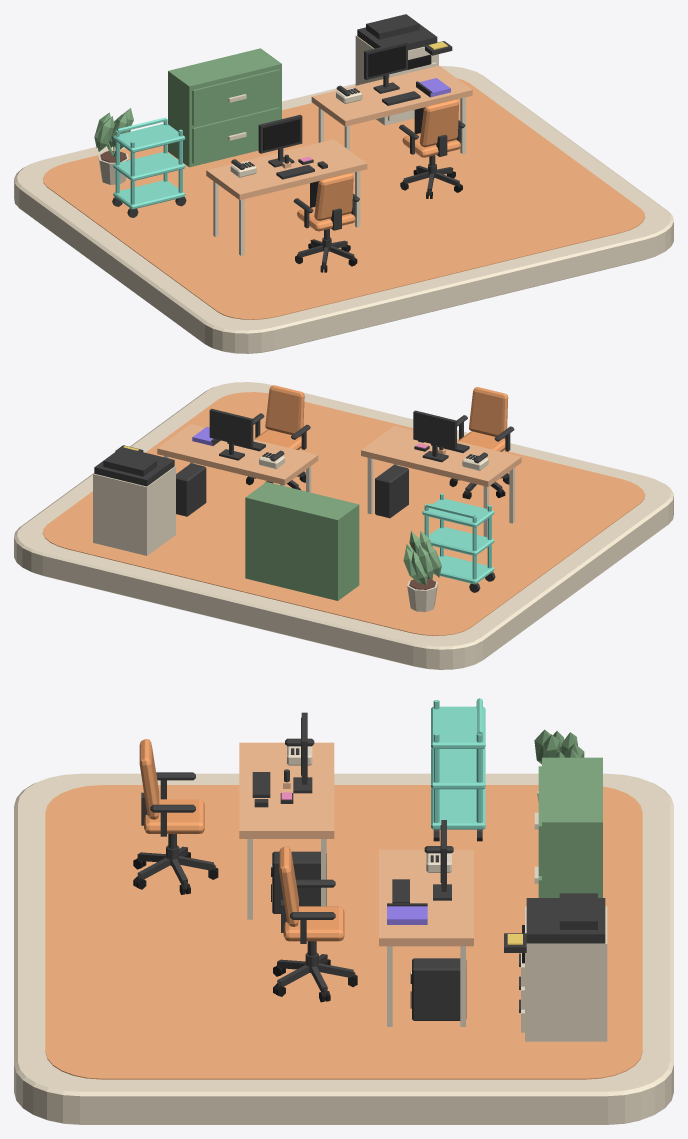
3 views of the same model, one above another, from view 1: azimuth 30°, elevation 25°; view 2: azimuth 150°, elevation 25°; view 3: azimuth 270°, elevation 25° (orthographic). The views are drawn at different scales.
Visible parts, largest first — view 1: COM-02 Floor Surface, COM-01 Rounded Base Direct, Cabinet, Top, Top.001, Body, COM-04_Chair_blender_direct, COM-04_Chair_blender_direct.001, Pot, Frame.001, Frame, Tray.002 (+2 smaller); view 2: COM-02 Floor Surface, COM-01 Rounded Base Direct, Cabinet, Body, Top, Top.001, COM-04_Chair_blender_direct, COM-04_Chair_blender_direct.001, Pot, Frame.001, Frame, Tower (+4 smaller); view 3: COM-02 Floor Surface, COM-01 Rounded Base Direct, Body, Cabinet, Top, Top.001, COM-04_Chair_blender_direct.001, COM-04_Chair_blender_direct, Tower.001, Tray.002, Tray.001, Tray (+5 smaller).
Part boxes in pixels (x1,y1,x2,y2): COM-02 Floor Surface: (42,78,645,319); COM-01 Rounded Base Direct: (14,66,673,353); Cabinet: (168,48,281,167); Top: (206,139,367,255); Top.001: (311,65,472,153); Body: (355,14,452,125); COM-04_Chair_blender_direct: (293,173,359,272); COM-04_Chair_blender_direct.001: (399,99,465,198); Pot: (94,108,133,184); Frame.001: (364,41,407,93); Frame: (258,114,302,167); Tray.002: (113,123,185,152); COM-02 Floor Surface: (42,392,645,635); COM-01 Rounded Base Direct: (14,382,673,669); Cabinet: (245,482,359,600); Body: (93,445,175,555); Top: (361,426,521,537); Top.001: (157,424,318,492); COM-04_Chair_blender_direct: (449,387,514,499); COM-04_Chair_blender_direct.001: (246,385,310,489); Pot: (403,531,441,611); Frame.001: (209,408,253,460); Frame: (413,410,456,462); Tower: (375,465,408,518); COM-02 Floor Surface: (45,785,642,1079); COM-01 Rounded Base Direct: (14,773,673,1124); Body: (504,893,607,1041); Cabinet: (534,757,602,897); Top: (239,742,334,919); Top.001: (379,849,473,1026); COM-04_Chair_blender_direct.001: (273,846,357,1002); COM-04_Chair_blender_direct: (133,739,218,894); Tower.001: (412,958,466,1020); Tray.002: (431,706,485,748); Tray.001: (431,748,485,789); Tray: (431,788,485,829).
Bounding box in the file's own units: 6 × 1.61 × 5.2.
Materials: 1 (1 with a texture image).
